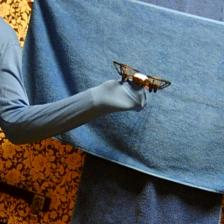drone: (114, 61, 171, 94)
